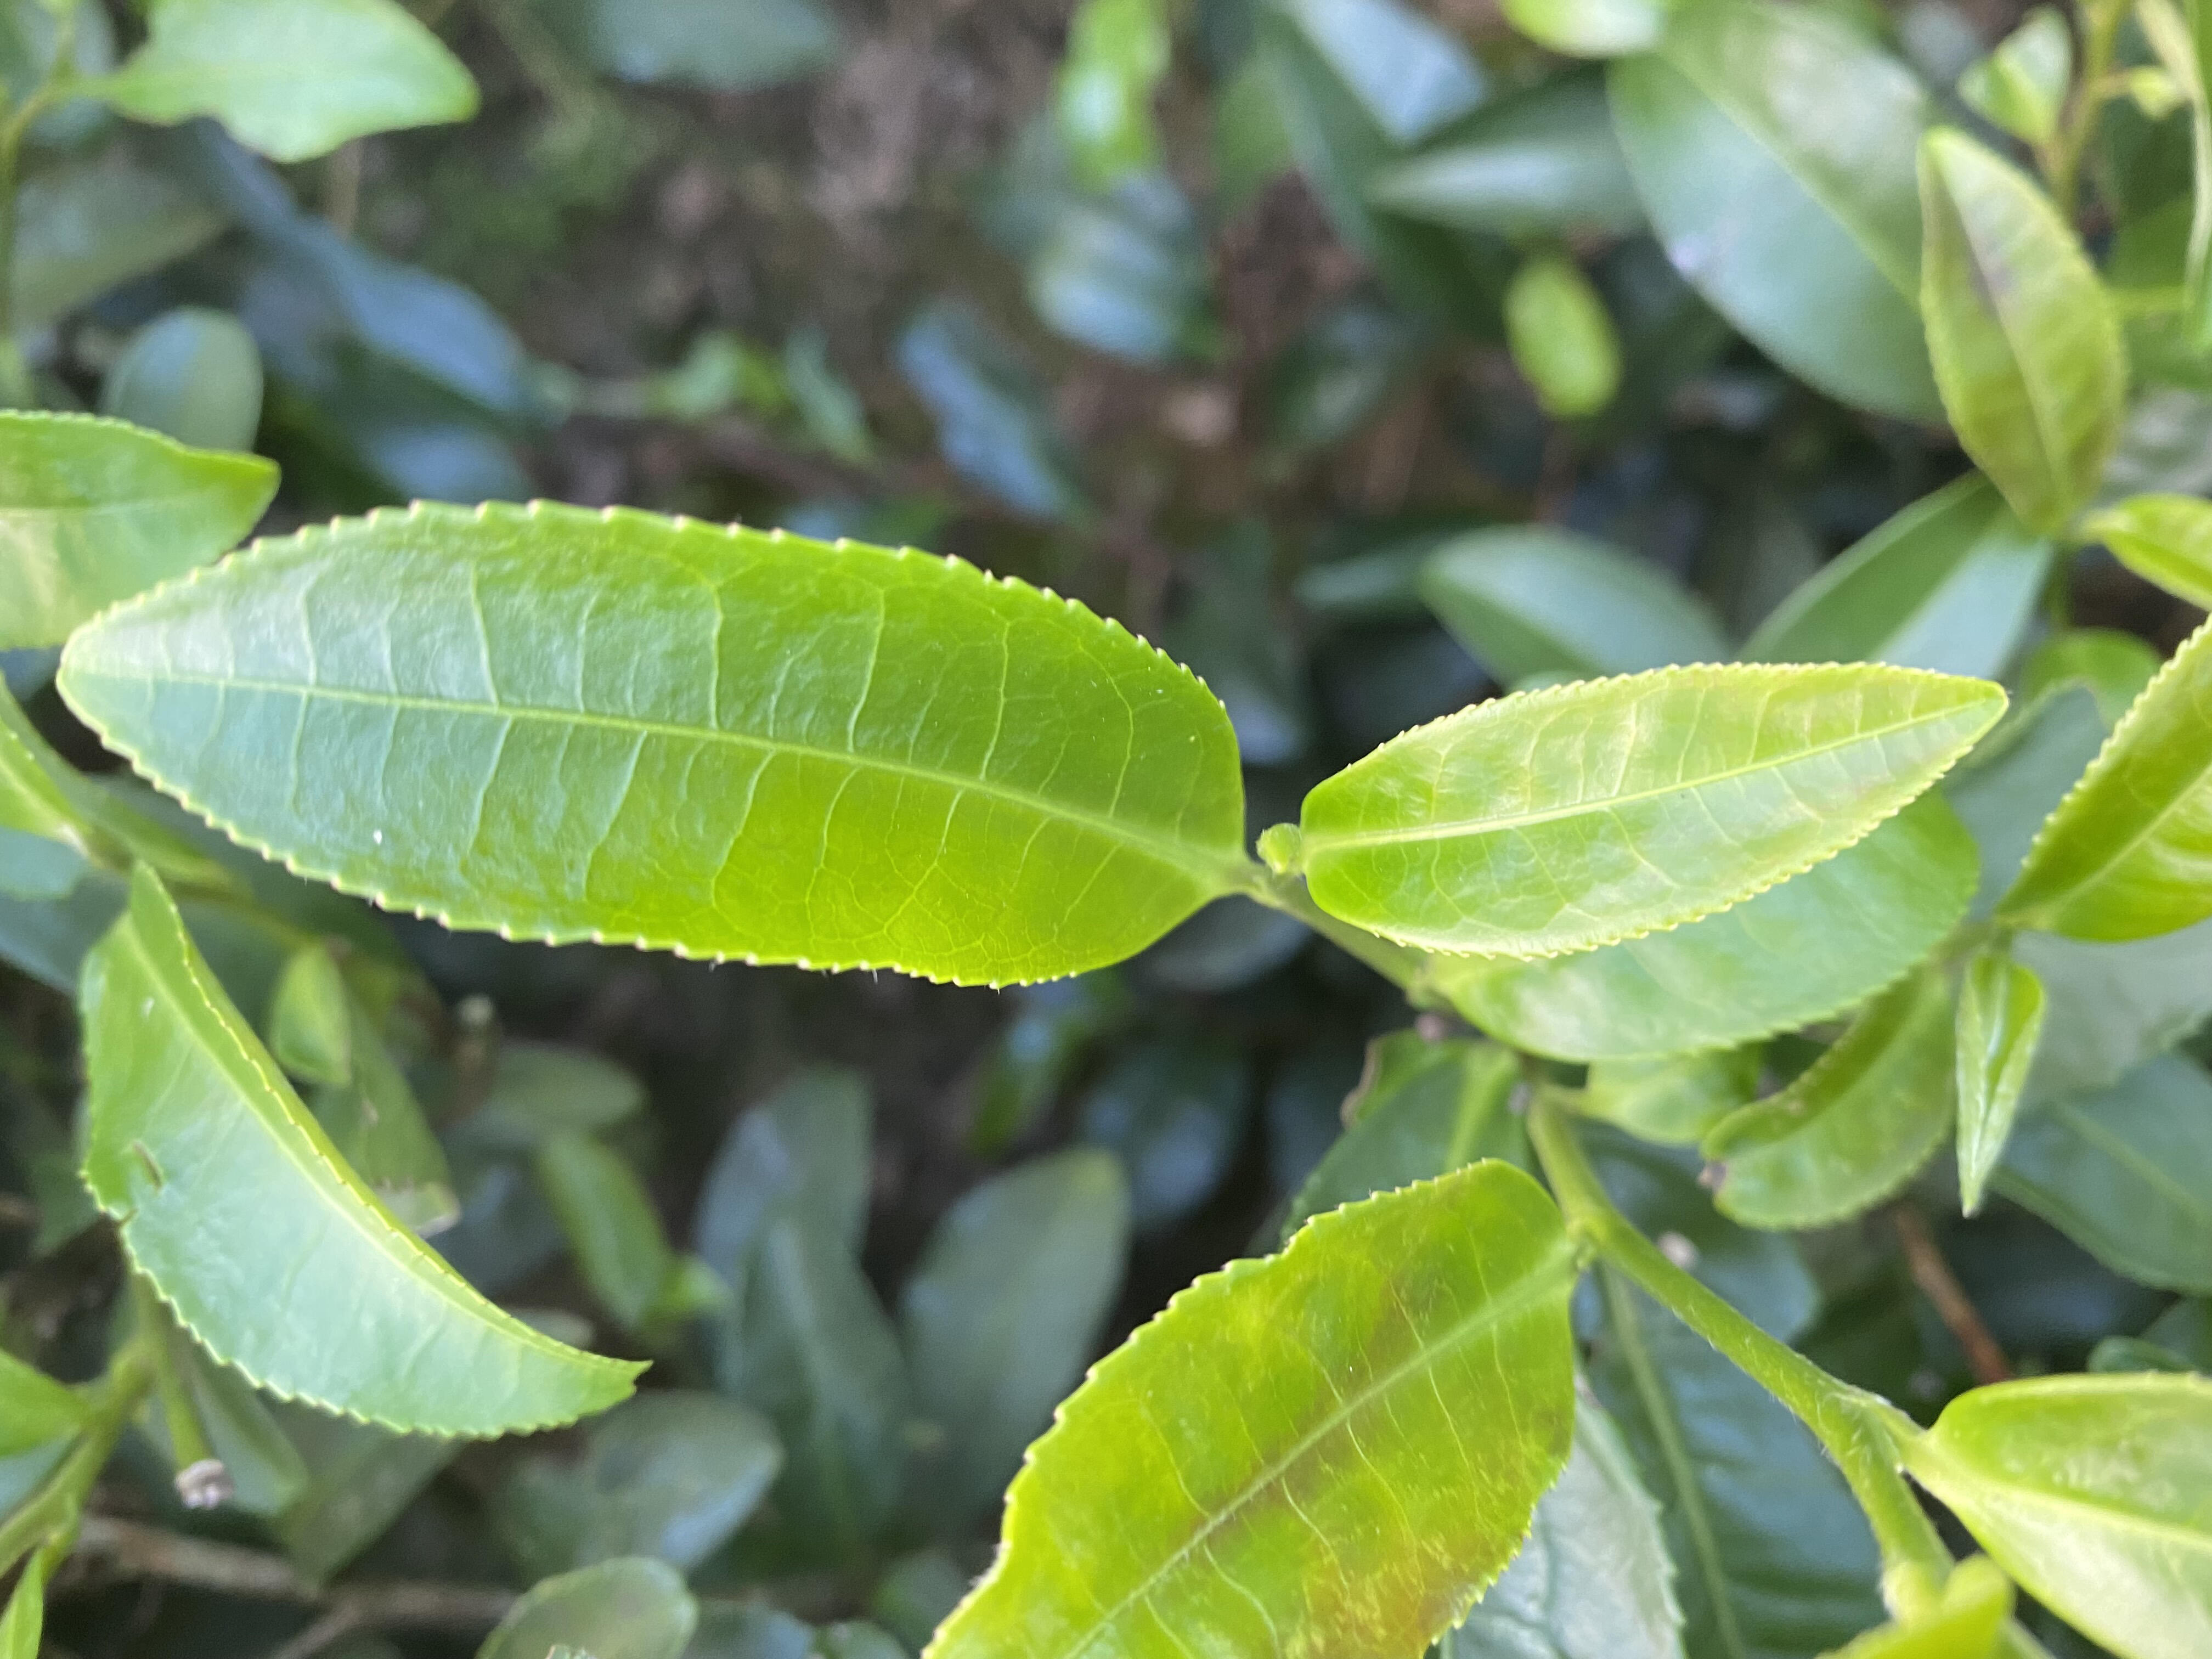chihuo_low: (68, 857, 655, 1443)
healthy: (54, 497, 1251, 993), (1298, 657, 2013, 960)
tanju_low: (918, 1154, 1575, 1659)
